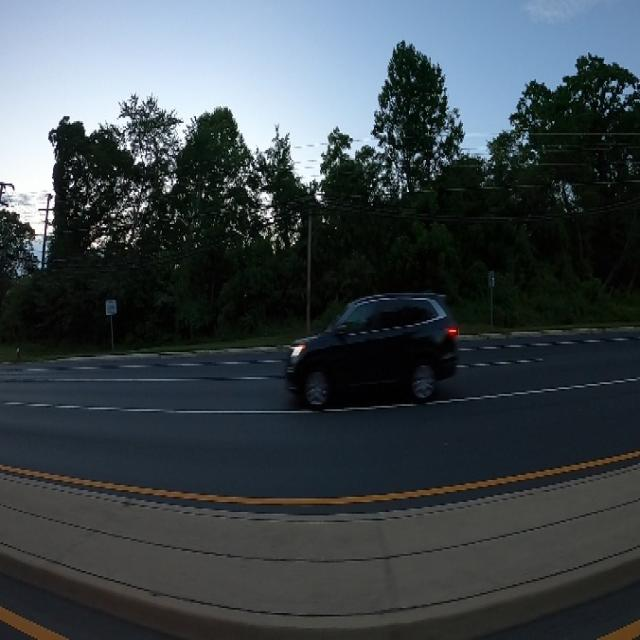Cars: (283, 303, 454, 410)
